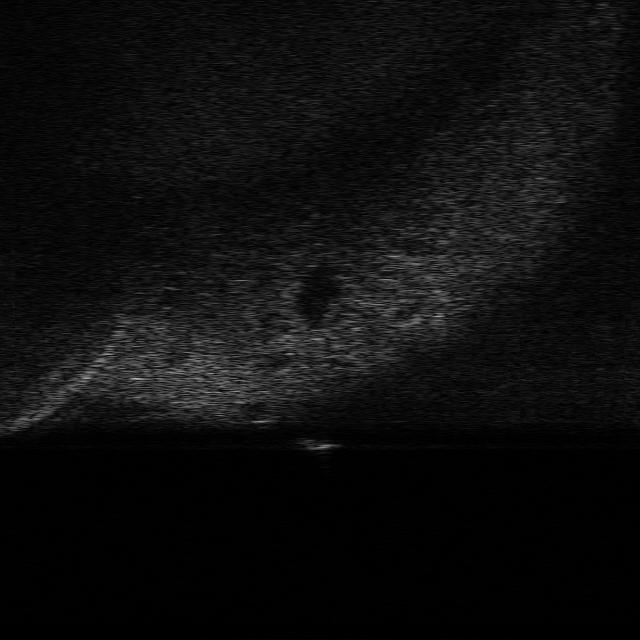cube: (293, 438, 345, 452)
